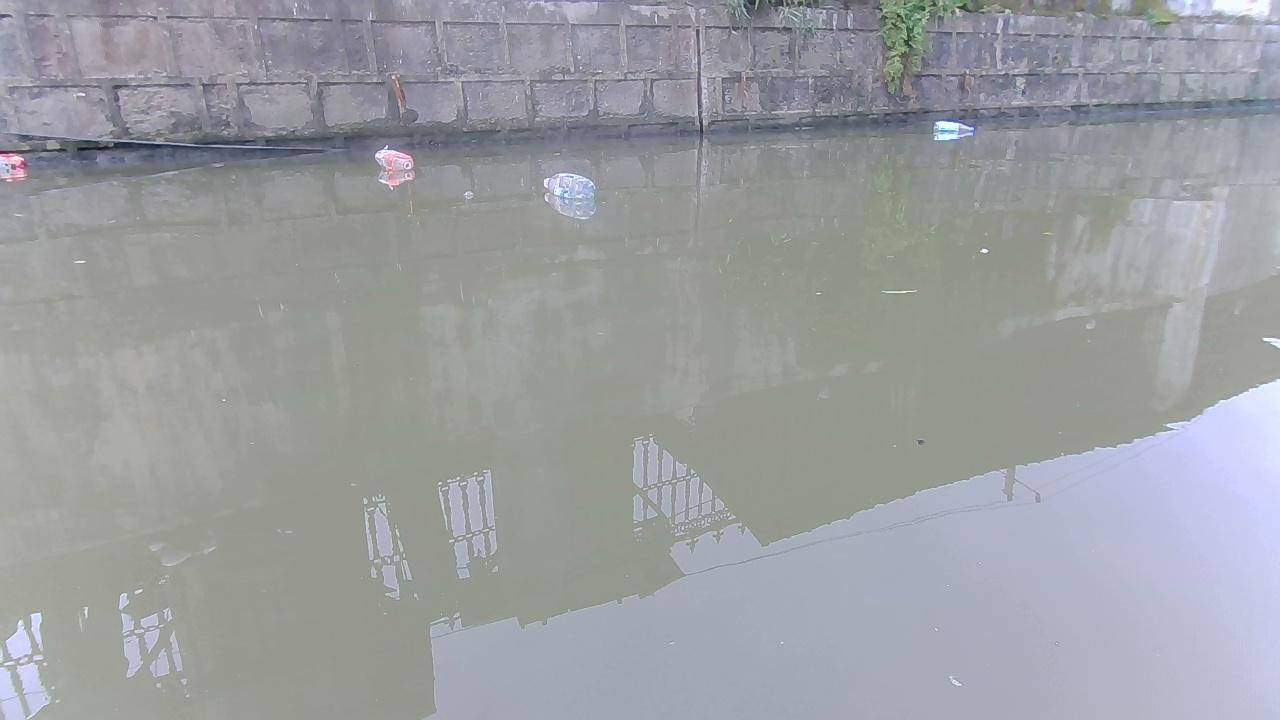bottle: (541, 174, 593, 202), (374, 146, 412, 173), (934, 118, 971, 142), (0, 152, 26, 168)
